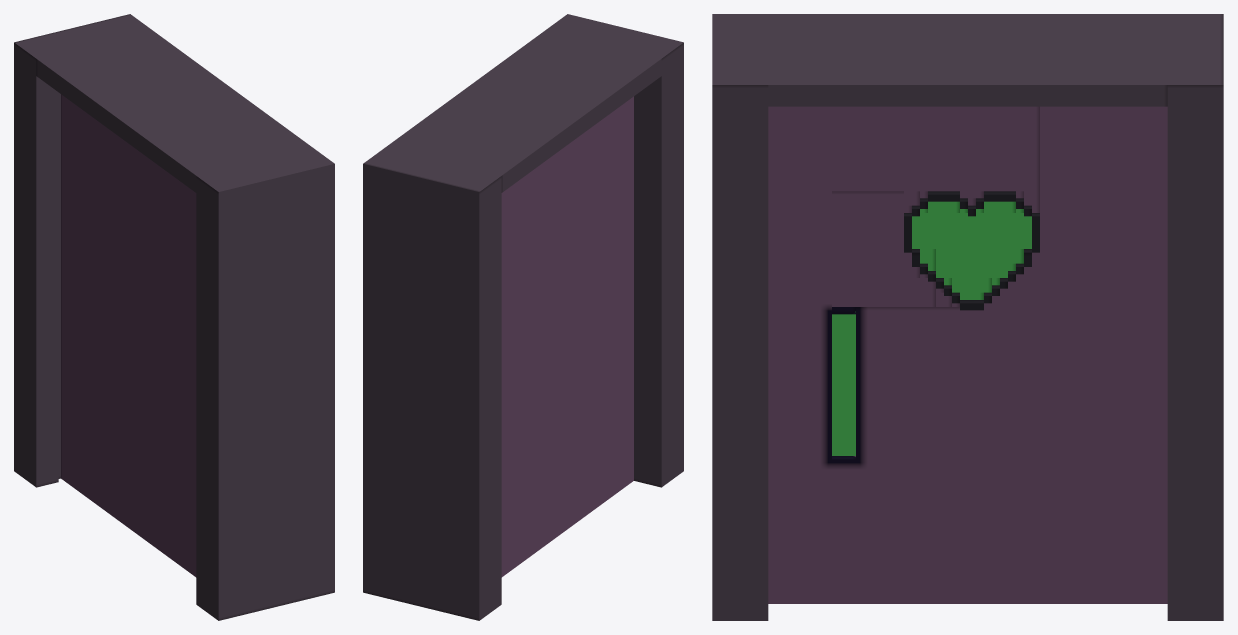
File: dzwi_dostepne.dae
3 renders of one model, left to right at view 1: azimuth 30°, elevation 25°; view 2: azimuth 150°, elevation 25°; view 3: azimuth 270°, elevation 25°, orthographic. The views are drawn at different scales.
Parts seen in each view (by area): view 1: Content; view 2: Content; view 3: Content.
Part boxes in pixels (left/top/right/bottom): Content: left=14, top=14, right=334, bottom=620; Content: left=363, top=14, right=683, bottom=620; Content: left=712, top=14, right=1223, bottom=620.
Size of the model in its own units: 21 by 74 by 64.
Materials: 1 (1 with a texture image).
